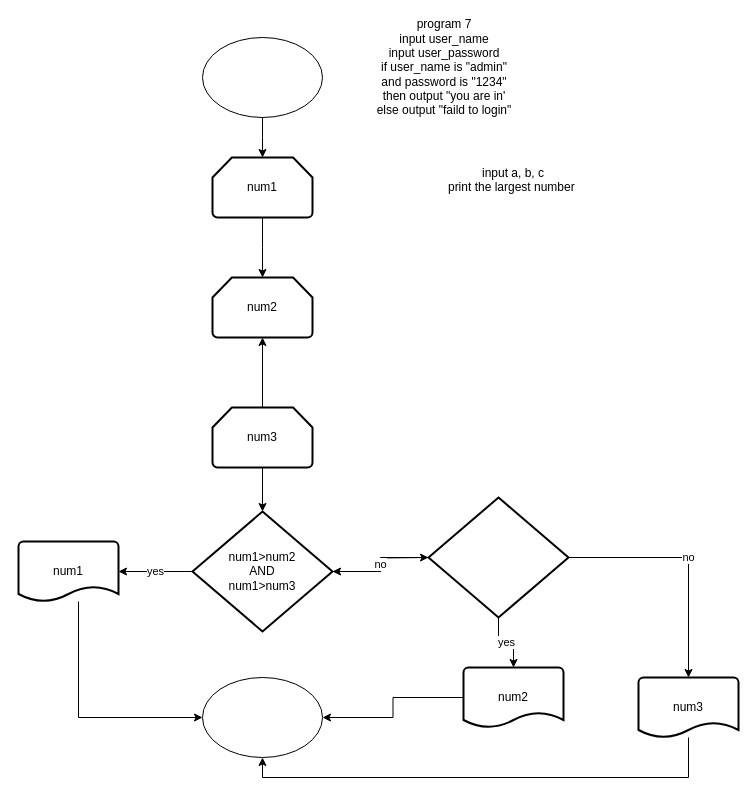
The diagram is 756 pixels wide and 803 high, and some of its shapes have lost their labels. Here are the shapes that lost their labels. From the top down, the centre of each, then its label:
the point at 262,77: start
the point at 498,557: num2>num3
the point at 262,717: stop
